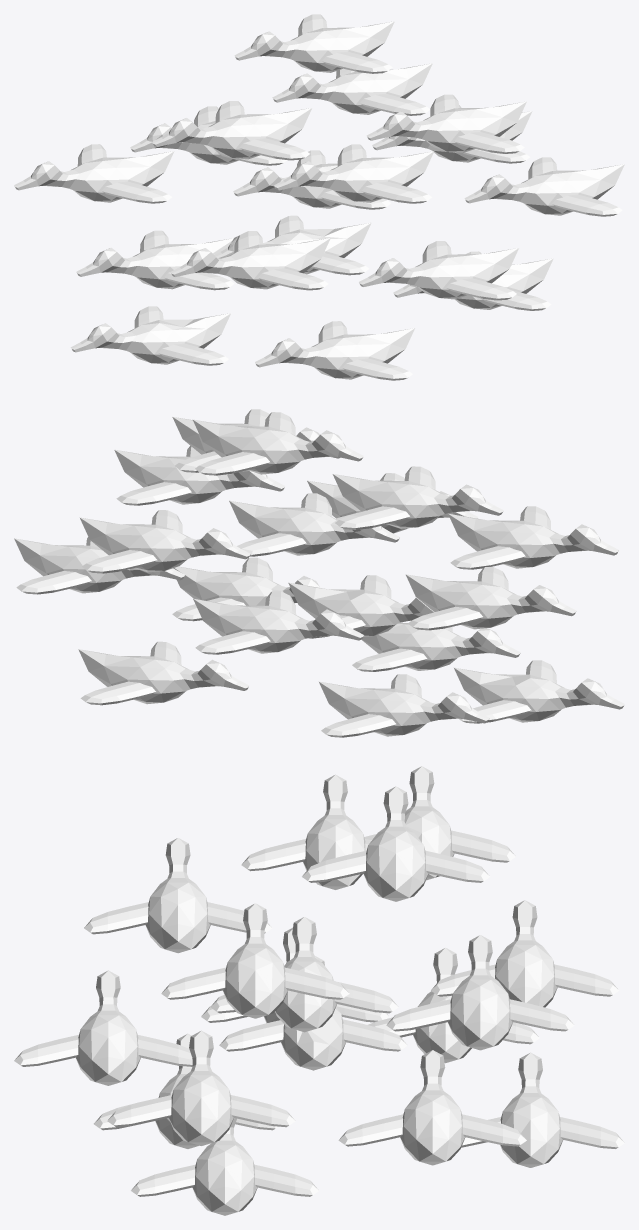
Rendered from Punt vogels.fbx.
3 renders of one model, top to bottom at view 1: azimuth 30°, elevation 25°; view 2: azimuth 150°, elevation 25°; view 3: azimuth 270°, elevation 25°, orthographic. The views are drawn at different scales.
Parts seen in each view (by area): view 1: .; view 2: .; view 3: ..
Boxes of the visible parts, x1=… form: .: x1=14, y1=14, x2=624, y2=380; .: x1=14, y1=409, x2=624, y2=737; .: x1=14, y1=766, x2=624, y2=1215.
Size of the model in its own units: 270 by 139 by 220.
1 material, 1 textured.
